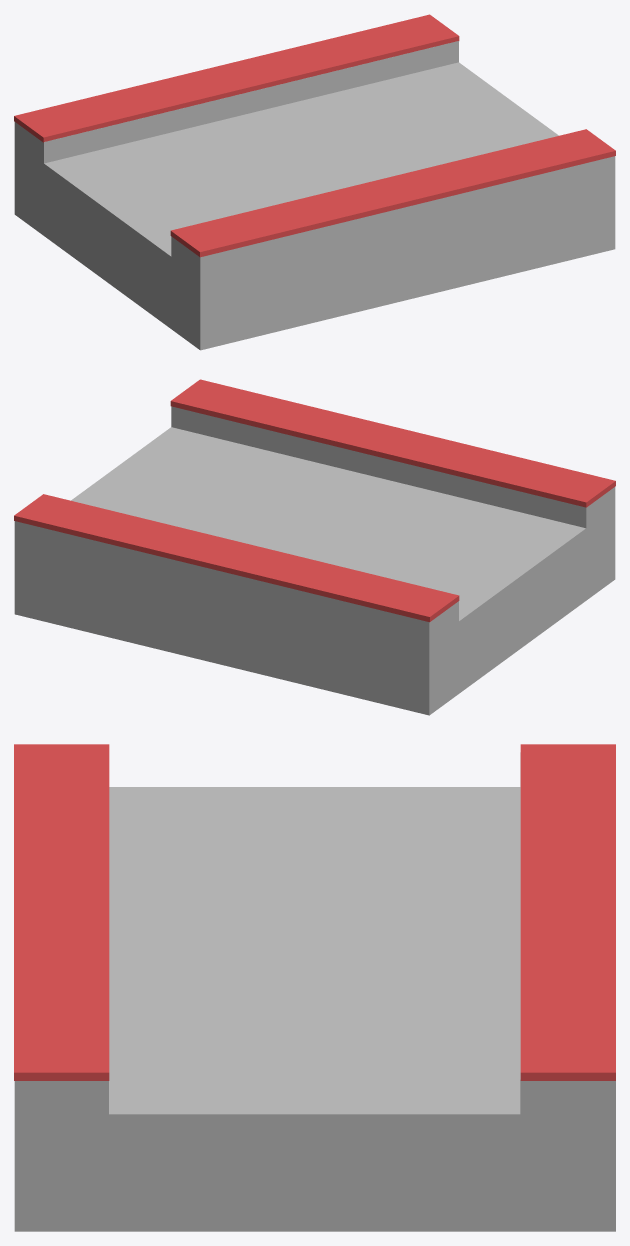
File: converyor2.fbx
The picture shows the model from 3 angles, top to bottom: view 1: azimuth 30°, elevation 25°; view 2: azimuth 150°, elevation 25°; view 3: azimuth 270°, elevation 25°; orthographic projection. The views are drawn at different scales.
Parts seen in each view (by area): view 1: Cube, Cube.002, Cube.001; view 2: Cube, Cube.002, Cube.001; view 3: Cube, Cube.001, Cube.002.
Boxes of the visible parts, x1,y1,x2,y2 form: Cube: [14, 41, 615, 350]; Cube.002: [170, 129, 615, 257]; Cube.001: [14, 14, 459, 142]; Cube: [14, 406, 615, 715]; Cube.002: [170, 379, 615, 507]; Cube.001: [14, 494, 459, 622]; Cube: [14, 752, 615, 1231]; Cube.001: [520, 744, 615, 1080]; Cube.002: [14, 744, 109, 1080].
Size of the model in its own units: 360 by 81.62 by 279.
